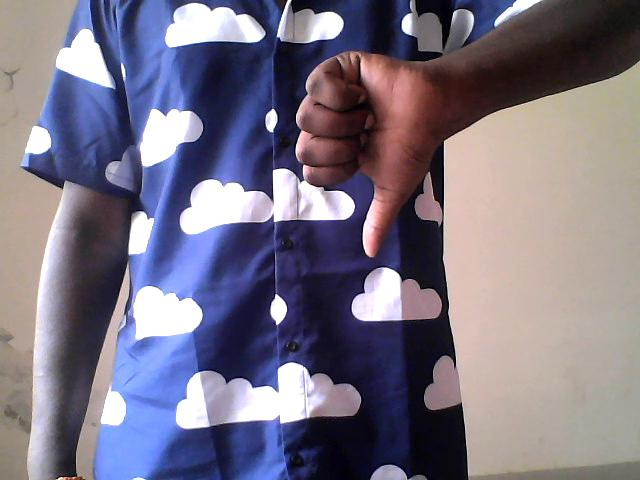thumbs-down: (282, 48, 463, 269)
